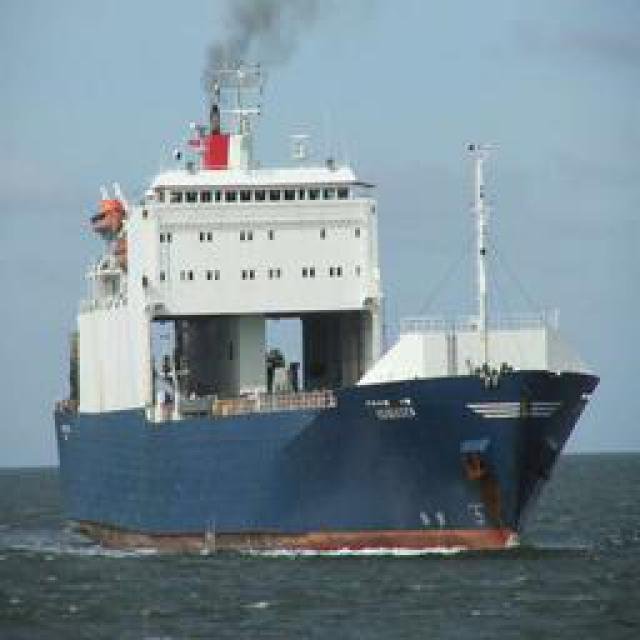Ship: (58, 24, 597, 575)
